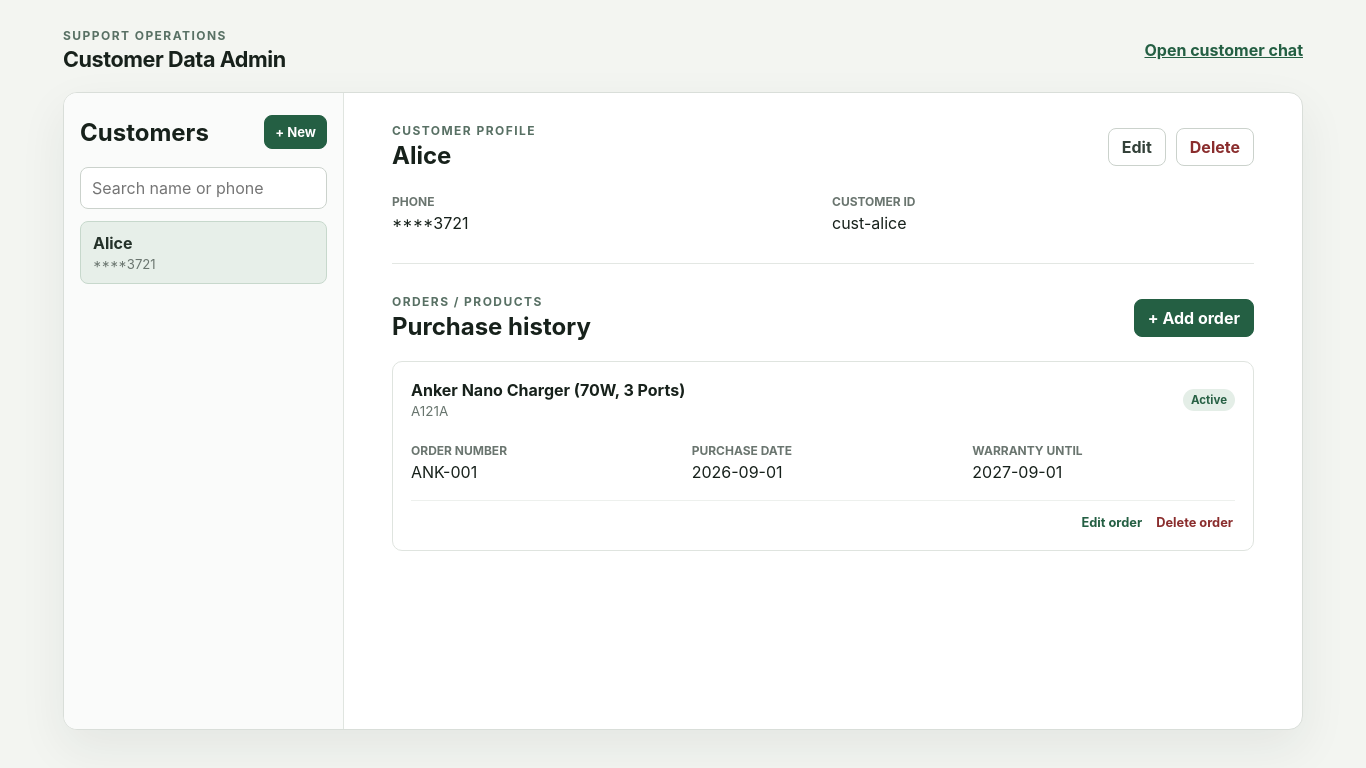
Scenario: Customer Admin › creates a customer and automatically selects the saved record
Expected: the text "Alice" is shown, [93,233,133,253]
Step 1. Click the button "+ New" → (296, 132), box [264,115,327,149]
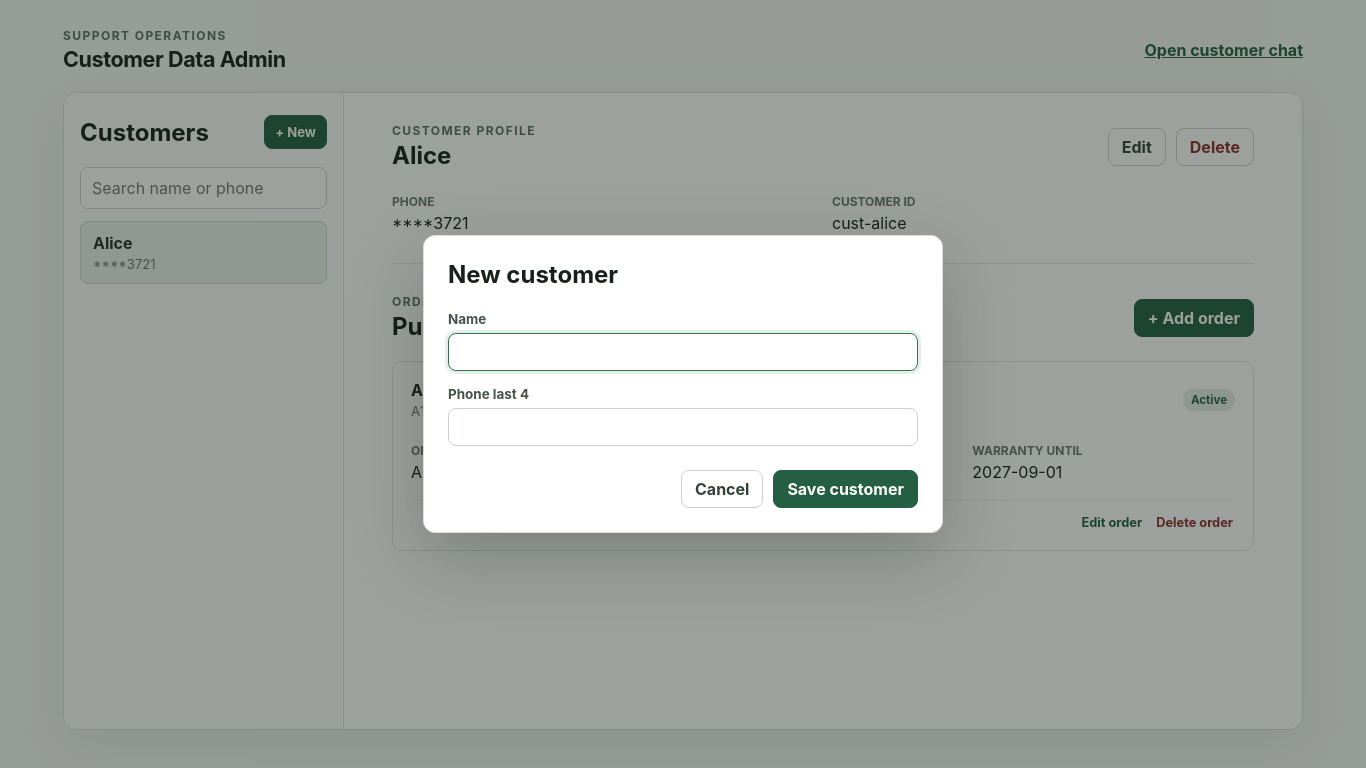
Step 2. Type "Jack" into the field labelled "Name" → (683, 352), box [448,333,918,371]
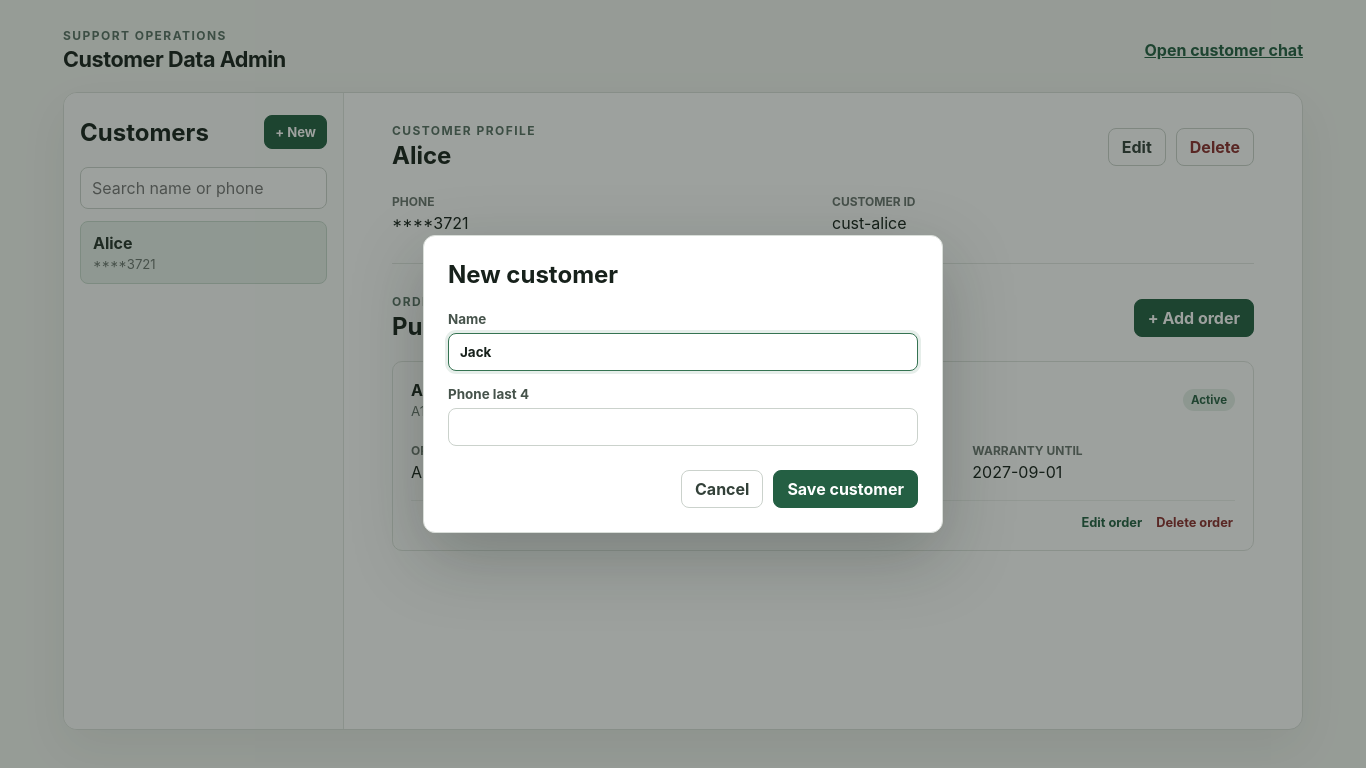
Step 3. Type "8842" into the field labelled "Phone last 4" → (683, 427), box [448,408,918,446]
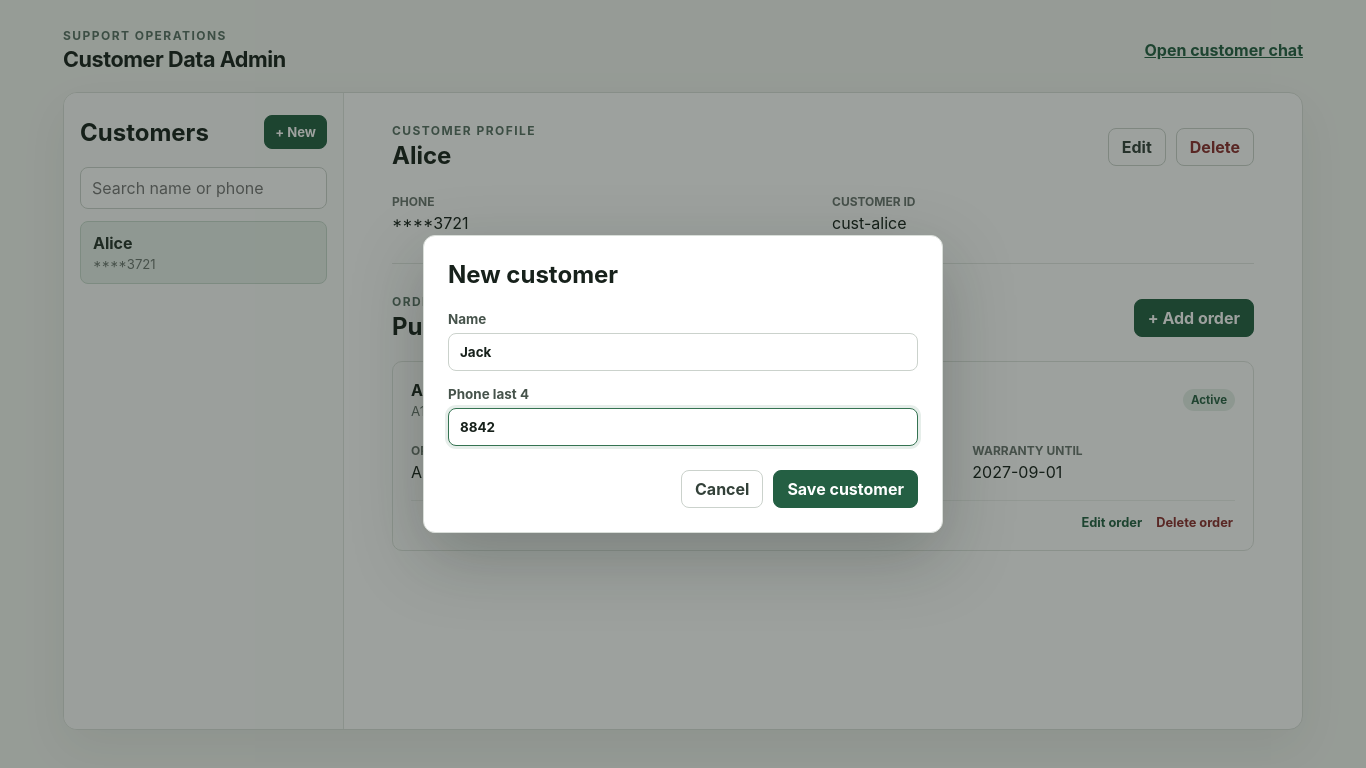
Step 4. Click the button "Save customer" → (846, 489), box [773,470,918,508]
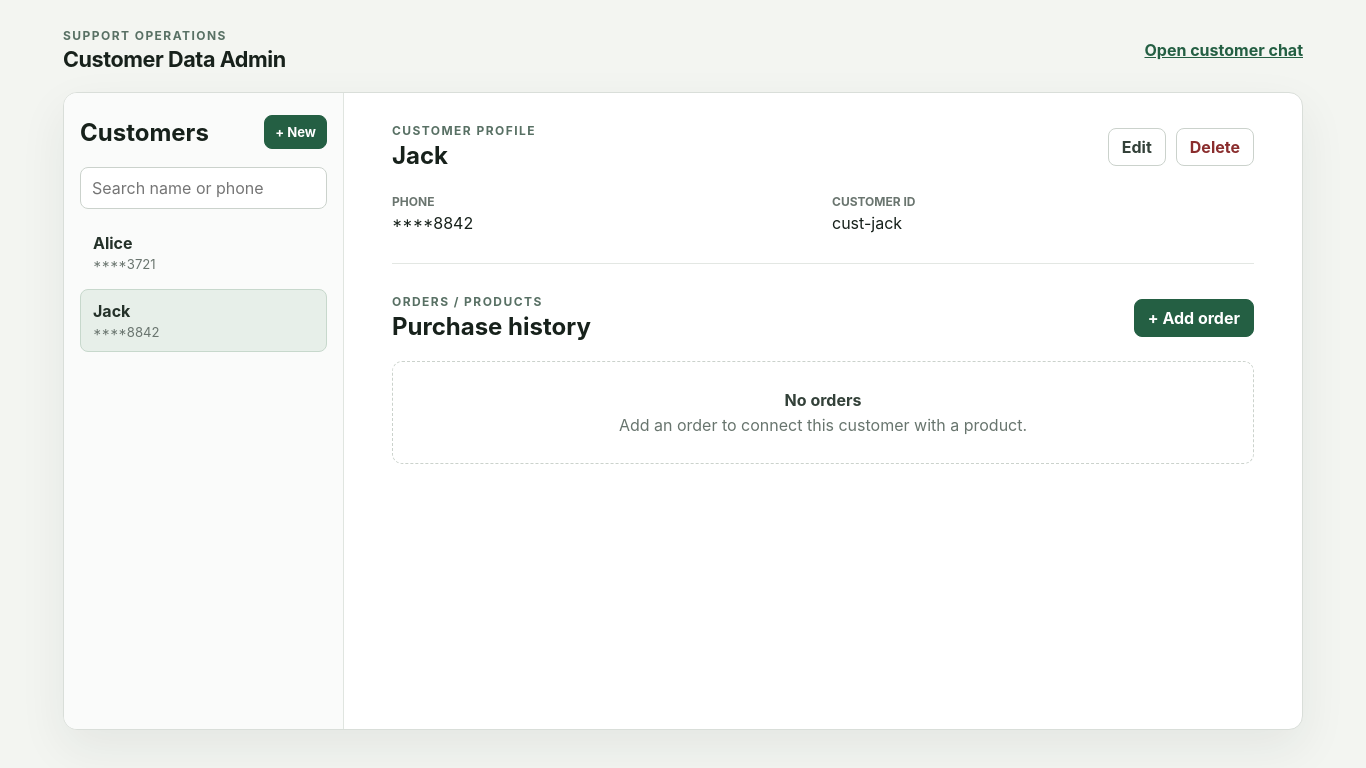
Now the heading "Jack" is shown, box [392,141,448,170]
